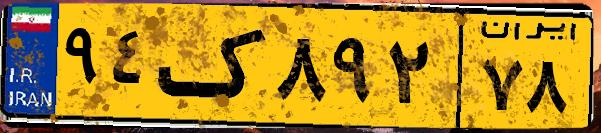2: (385, 28, 445, 110)
4: (110, 28, 158, 98)
7: (475, 38, 525, 113)
8: (270, 28, 330, 110), (525, 38, 570, 115)
9: (330, 28, 385, 110), (57, 26, 110, 100)
ک: (158, 12, 270, 120)
